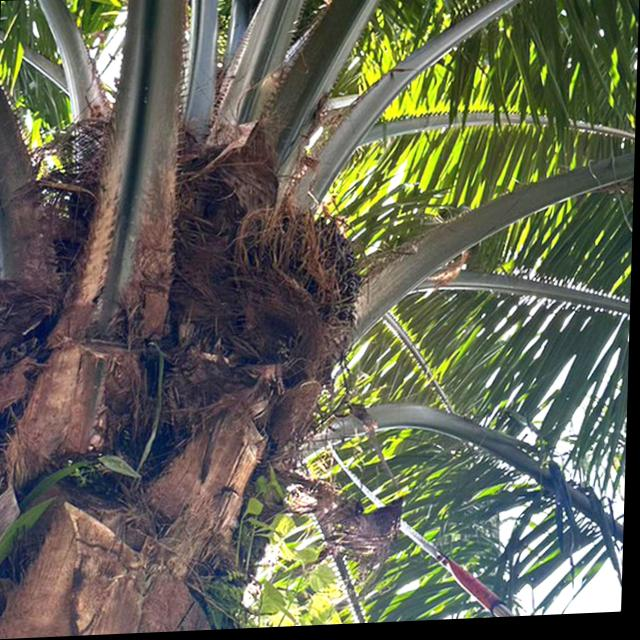unripe: (211, 206, 377, 384)
